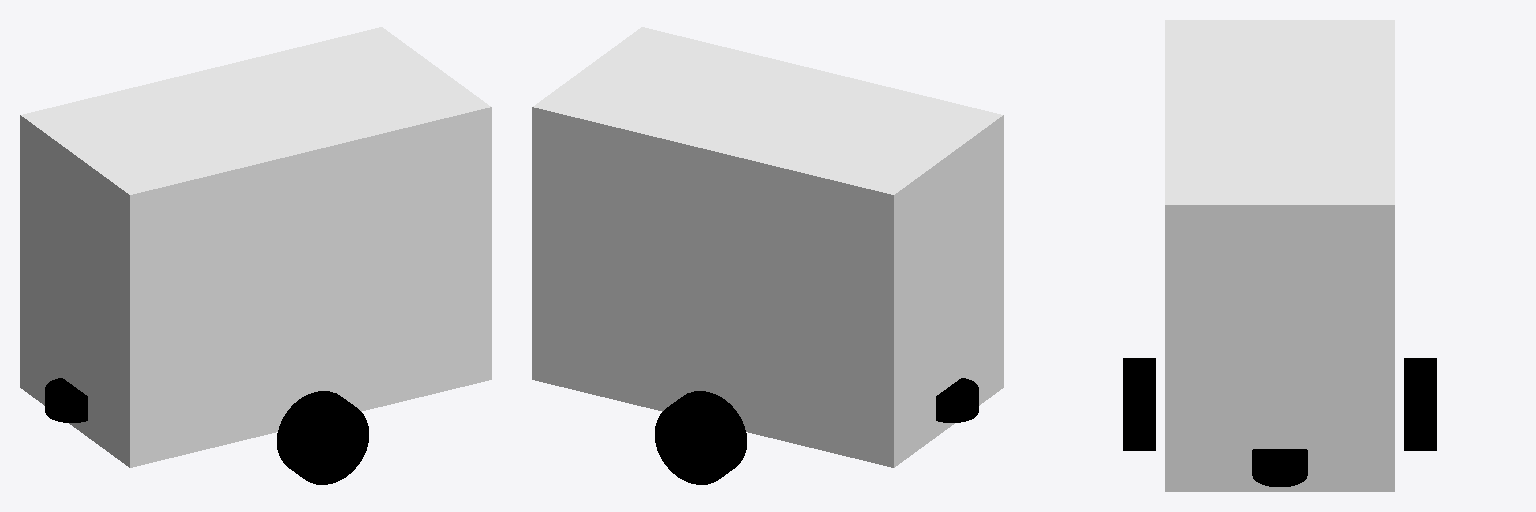
The robot description file, URDF, robot "amr":
  <!-- 프로파일 중앙 밑면을 base_link로 잡음-->
  
  
  <robot name="amr">

    <material name= "white">
      <color rgba="1 1 1 1" />
    </material>

    <material name= "orange">
      <color rgba="1 0.3 0.1 1" />
    </material>

    <material name= "blue">
      <color rgba="0.2 0.2 1 1" />
    </material>

    <material name= "black">
      <color rgba="0 0 0 1" />
    </material>

    <material name= "red">
      <color rgba="1 0 0 1" />
    </material>


    <!-- Base Footprint -->
    <link name="base_link"/>

    <!-- Base Link -->
    <link name="chassis">
      <visual name="base_visual">
        <origin xyz="0 0 0.22" rpy="0 0 0"/>
        <geometry>
          <box size="0.61 0.32 0.44"/>
        </geometry>
        <material name="white"/>
      </visual>
    </link>

    <link name="laser">
      <visual name="laser_visual">
        <origin xyz="0 0 0" rpy="0 0 0"/>
        <geometry>
          <cylinder radius="0.0385" length="0.03885"/>
        </geometry>
        <material name="black"/>
      </visual>
    </link>

    <link name="lidar2_link">
      <visual name="lidar2_visual">
        <origin xyz="0 0 0" rpy="0 0 0"/>
        <geometry>
          <cylinder radius="0.0385" length="0.03885"/>
        </geometry>
        <material name="black"/>
      </visual>
    </link>

    <link name="lidar1_link">
      <visual name="lidar1_visual">
        <origin xyz="0 0 0" rpy="0 0 0"/>
        <geometry>
          <cylinder radius="0.0385" length="0.03885"/>
        </geometry>
          <material name="black"/>
      </visual>
    </link>

    <link name="imu_link">
      <visual name="imu_visual">
        <origin xyz="0 0 0" rpy="0 0 0"/>
        <geometry>
          <box size="0.04 0.03 0.01"/>
        </geometry>
        <material name="blue"/>
      </visual>
    </link>


    <!-- Left Wheel Link -->
    <link name="wheel_left_link">
      <collision name="wheel_left_collision">
        <origin xyz="0 0 0" rpy="0 0 0"/>
        <geometry>
          <cylinder radius="0" length="0.046"/>
        </geometry>
      </collision>
      <visual name="wheel_left_visual">
        <origin xyz="0 0 0" rpy="0 0 0"/>
        <geometry>
          <cylinder radius="0.065" length="0.046"/>
        </geometry>
        <material name="black"/>
      </visual>
    </link>

    <!-- Right Wheel Link -->
    <link name="wheel_right_link">
      <collision name="wheel_right_collision">
        <origin xyz="0 0 0" rpy="0 0 0"/>
        <geometry>
          <cylinder radius="0.065" length="0.046"/>
        </geometry>
      </collision>
      <visual name="wheel_right_visual">
        <origin xyz="0 0 0" rpy="0 0 0"/>
        <geometry>
          <cylinder radius="0.065" length="0.046"/>
        </geometry>
        <material name="black"/>
      </visual>
    </link>

    <!-- Joint definitions -->

    <joint name="base_joint" type="fixed">
      <parent link="base_link"/>
      <child link="chassis"/>
      <origin xyz="0 0 0" rpy="0 0 0"/>
    </joint>

    <!--
      IMU mount (interpreted from the user's measurement):
      x = +0.0045 m  : robot front direction
      y = +0.0025 m  : robot left direction
      z = +0.1350 m  : robot up direction

      IMU axis mounting (IMU flipped 180 deg about its own local X axis,
      X axis kept pointing at robot front):
      imu x -> robot front
      imu y -> robot right
      imu z -> robot down

      This is just a roll of 180 deg about the IMU's local X axis (no yaw).
    -->
    <joint name="imu_joint" type="fixed">
      <parent link="base_link"/>
      <child link="imu_link"/>
      <origin xyz="-0.0365 0 0.318" rpy="3.14159265359 0 0"/> <!-- 바닥-IMU아크릴 = 0.33, IMU마운트 두께 = 0.012, 프로파일 중앙 부터 끝 = 0.015, IMU마운트 끝에서 IMU 중앙 = 0.0215-->
    </joint>

    <joint name="wheel_left_joint" type="continuous">
      <parent link="chassis"/>
      <child link="wheel_left_link"/>
      <origin xyz="0 0.196 -0.008" rpy="-1.57 0 0"/>
      <axis xyz="0 0 1"/>
    </joint>

    <joint name="wheel_right_joint" type="continuous">
      <parent link="chassis"/>
      <child link="wheel_right_link"/>
      <origin xyz="0 -0.196 -0.008" rpy="1.57 0 0"/>
      <axis xyz="0 0 1"/>
    </joint>

    <joint name="lidar_joint" type="fixed">
      <parent link="chassis"/>
      <child link="laser"/>
      <origin xyz="0.0 0.0 0.0465" rpy="0 0 0"/>
      <!-- <axis xyz="0 1 0"/> -->
    </joint>

    <joint name="lidar1_joint" type="fixed">
      <parent link="chassis"/>
      <child link="lidar1_link"/>
      <origin xyz="0.311 0 0.0465" rpy="0 3.14 0"/>
      <!-- <axis xyz="0 1 0"/> -->
    </joint>
    

    <joint name="lidar2_joint" type="fixed">
      <parent link="chassis"/>
      <child link="lidar2_link"/>
      <origin xyz="-0.311 0 0.0465" rpy="0 3.14 3.14"/>
      <!-- <axis xyz="0 1 0"/> -->
    </joint>


  </robot>

--- What the picture shows (computed from the rendered views, not written in the file) ---
3 views of the same robot in one strip: view 1: azimuth 30°, elevation 25°; view 2: azimuth 150°, elevation 25°; view 3: azimuth 270°, elevation 25° (orthographic).
Model amr with 8 links and 7 joints (2 continuous, 5 fixed), rooted at base_link, posed all joints at 0.
Links seen in each view (by area): view 1: chassis, wheel_right_link, lidar2_link; view 2: chassis, wheel_left_link, lidar2_link; view 3: chassis, wheel_left_link, wheel_right_link, lidar1_link.
Boxes of the visible links, box(x1,y1,x2,y2) form: chassis: box(20, 27, 491, 467); wheel_right_link: box(277, 391, 368, 484); lidar2_link: box(45, 378, 87, 422); chassis: box(532, 27, 1003, 467); wheel_left_link: box(655, 391, 746, 484); lidar2_link: box(936, 378, 978, 422); chassis: box(1165, 20, 1394, 491); wheel_left_link: box(1404, 358, 1436, 450); wheel_right_link: box(1123, 358, 1155, 450); lidar1_link: box(1252, 449, 1307, 486).
Bounding box of the posed robot: 0.6991 × 0.4381 × 0.513 m (x, y, z).
Geometry: primitives only (box / cylinder / sphere), no mesh files.
